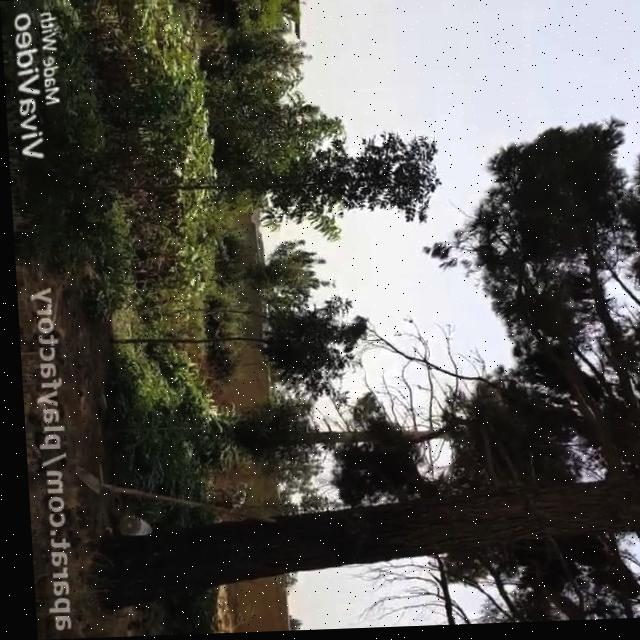drone: (327, 279, 336, 291)
